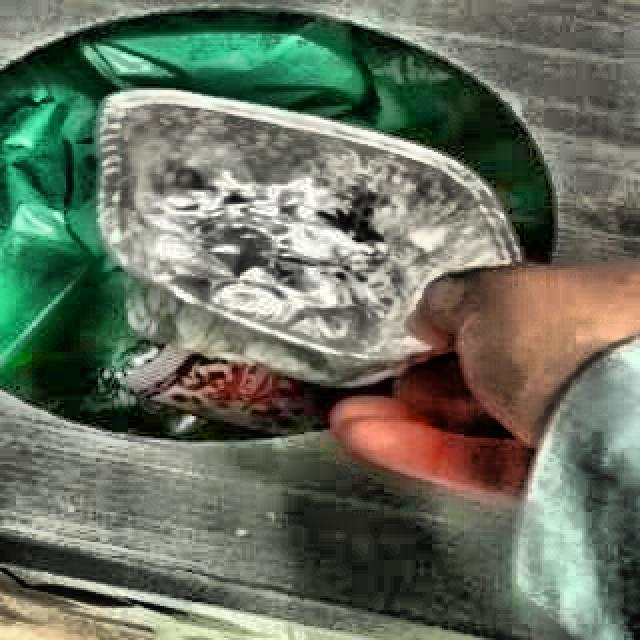metal: (96, 88, 523, 388)
